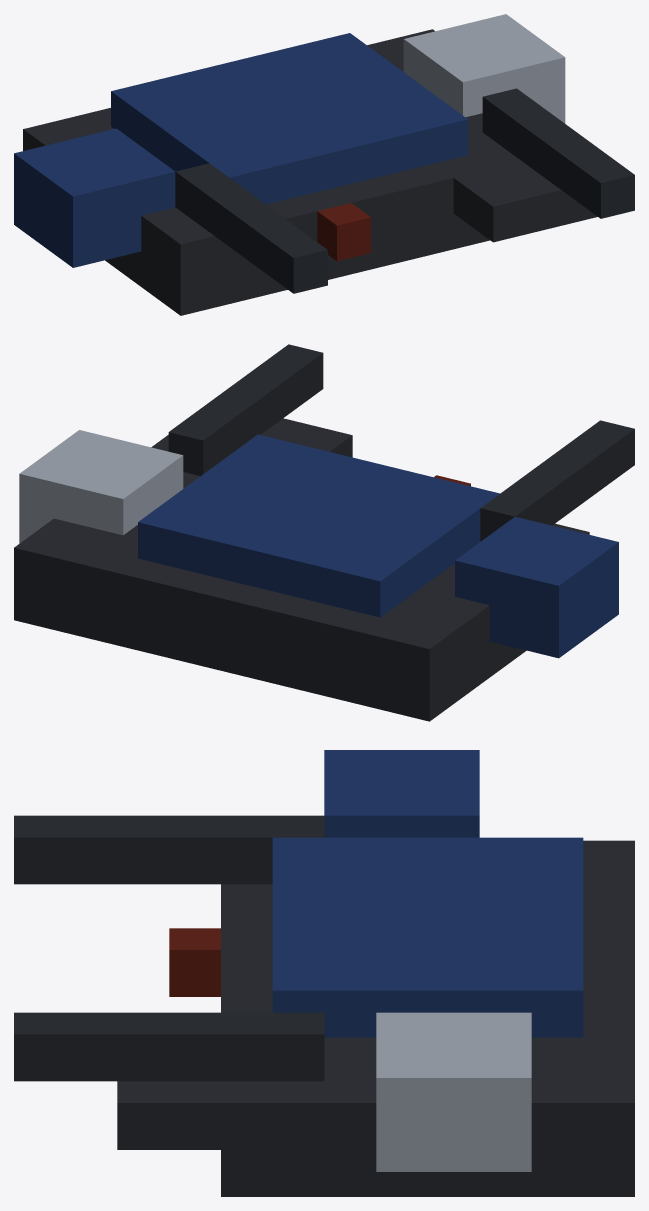
File: mech_artillery_destroyed.glb
The picture shows the model from 3 angles, top to bottom: view 1: azimuth 30°, elevation 25°; view 2: azimuth 150°, elevation 25°; view 3: azimuth 270°, elevation 25°; orthographic projection. The views are drawn at different scales.
Visible parts, largest first — view 1: Wreck mesh, Cannon mesh, Ember mesh; view 2: Wreck mesh, Cannon mesh; view 3: Wreck mesh, Cannon mesh, Ember mesh.
Boxes of the visible parts, box(x1,y1,x2,y2) form: Wreck mesh: box(14, 14, 597, 315); Cannon mesh: box(175, 88, 634, 293); Ember mesh: box(317, 203, 370, 261); Wreck mesh: box(14, 418, 618, 721); Cannon mesh: box(168, 344, 634, 541); Wreck mesh: box(117, 750, 634, 1196); Cannon mesh: box(14, 815, 324, 1081); Ember mesh: box(169, 928, 220, 996).
Size of the model in its own units: 15 by 3 by 12.
1 material, 1 textured.
